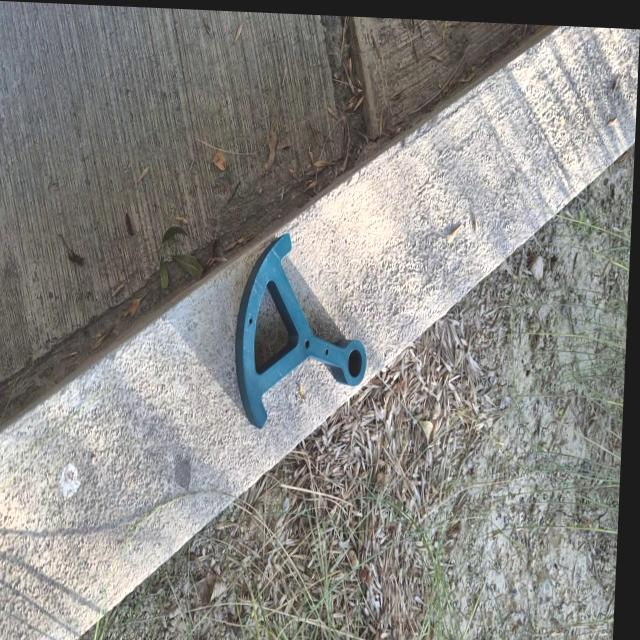haptic: (230, 229, 373, 434)
